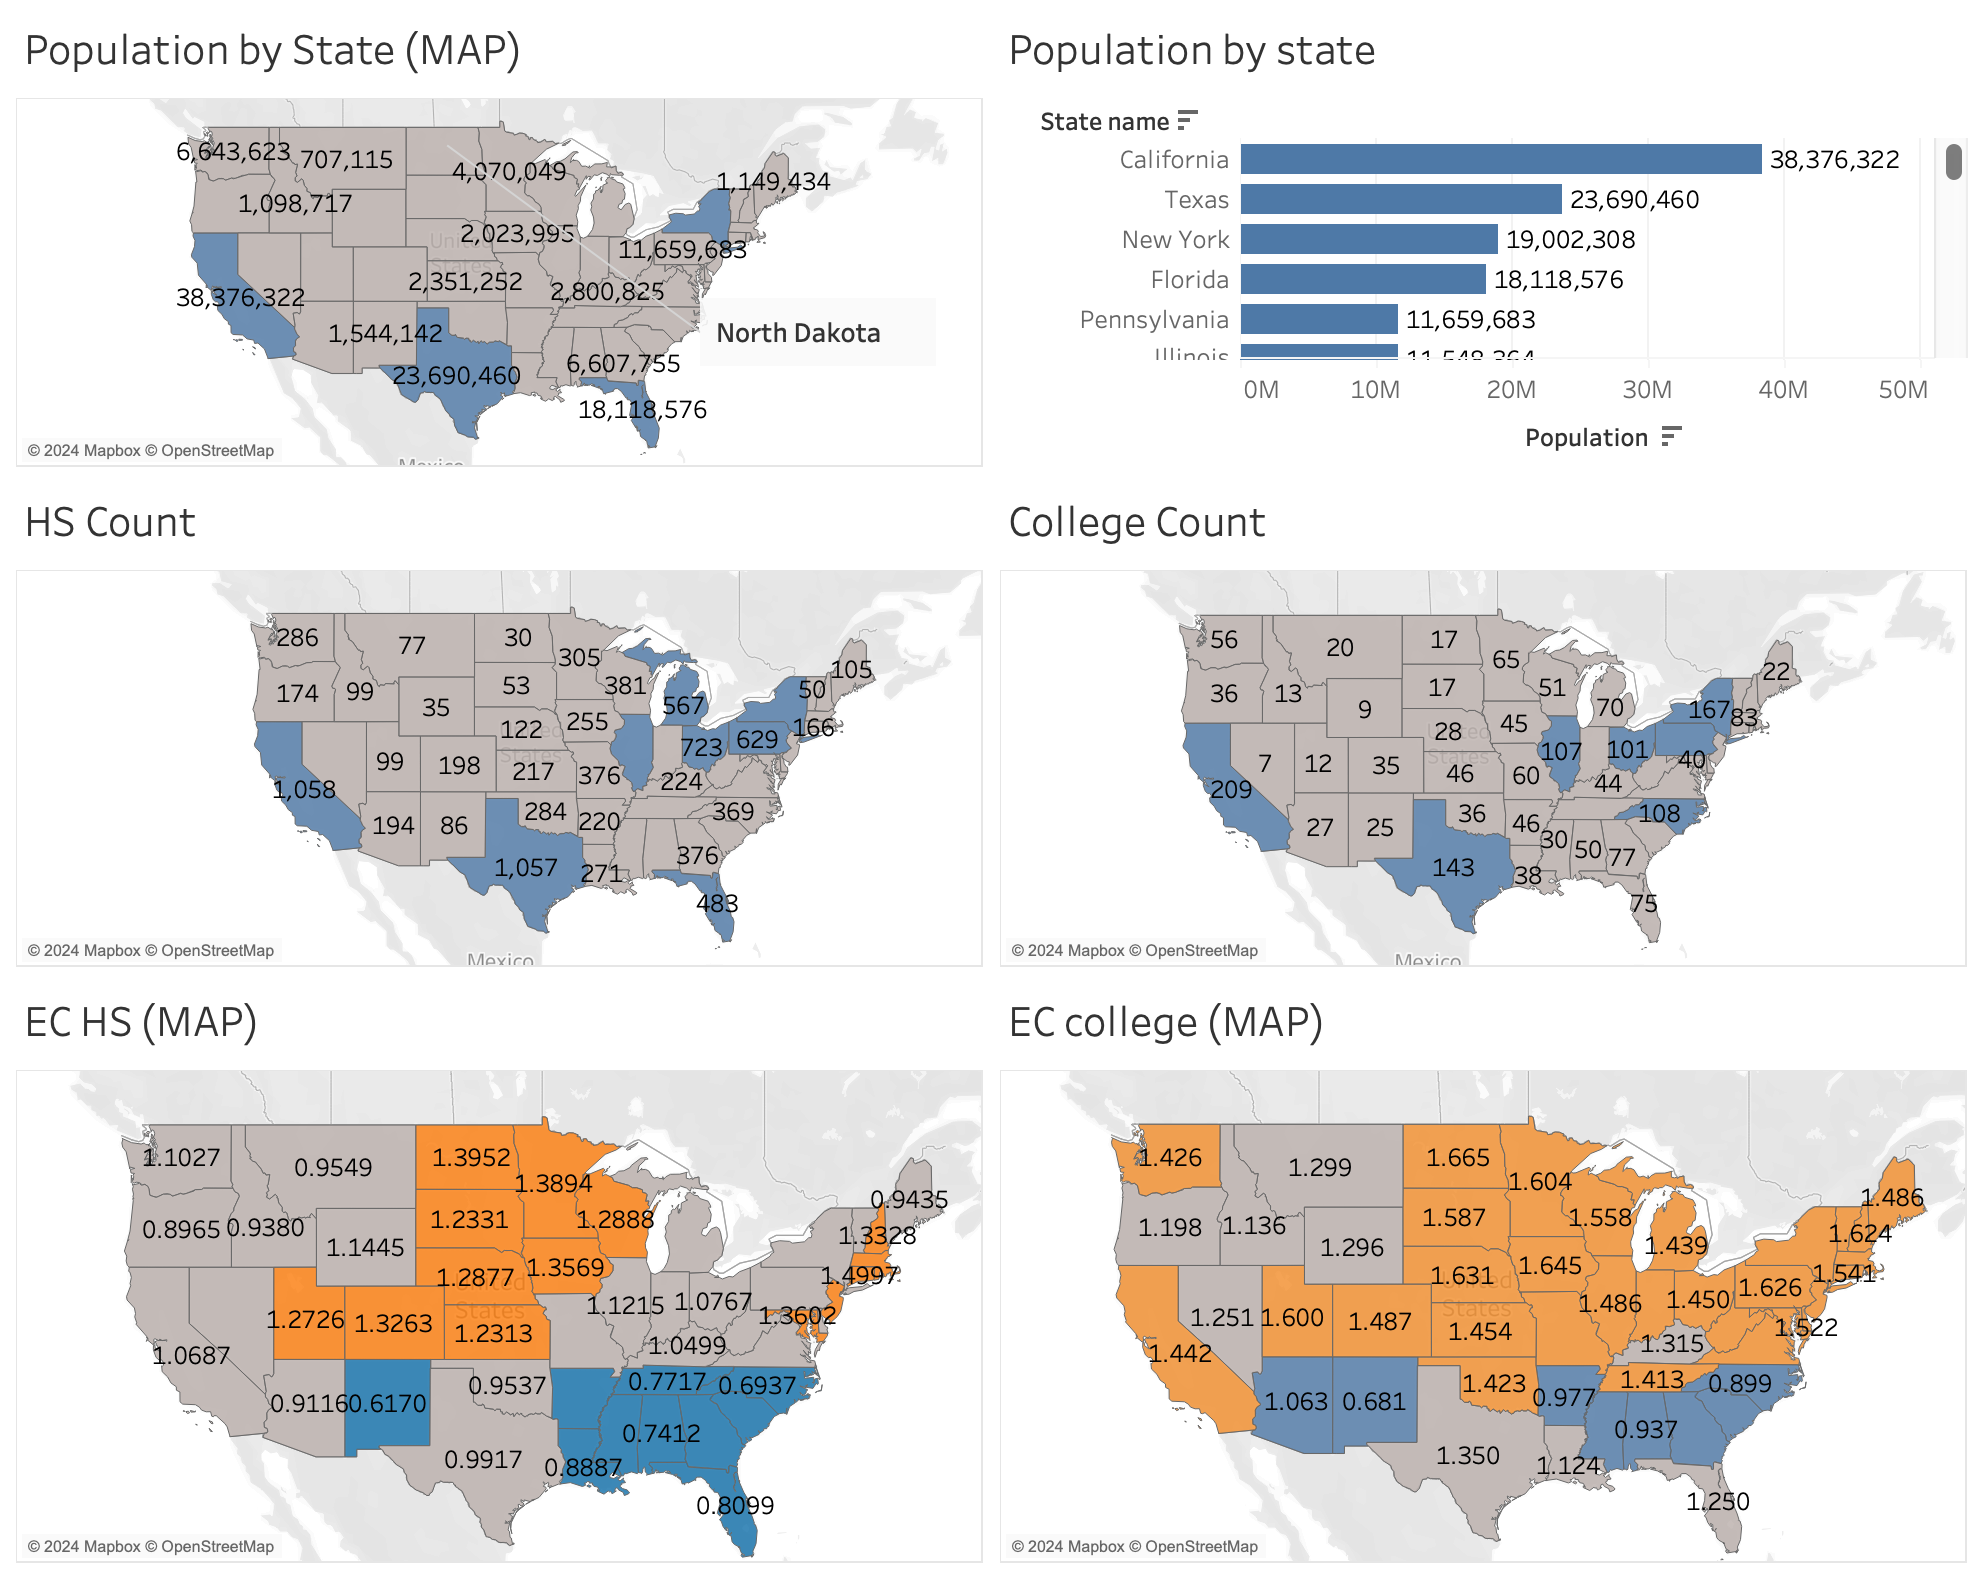

The dashboard page shown, as its layout file describes it:
{"tool":"tableau","page":{"name":"Education","canvas":[1000,800],"ordinal":1},"visuals":[{"type":"worksheet","title":"Population by State (MAP)","mark":"Multipolygon","box":[8,8,492,236]},{"type":"worksheet","title":"Population by state","mark":"Automatic","rows":["Calculation_73957601750016002"],"cols":["pop2018"],"box":[500,8,492,236]},{"type":"worksheet","title":"HS Count","mark":"Multipolygon","box":[8,244,492,250]},{"type":"worksheet","title":"College Count","mark":"Multipolygon","box":[500,244,492,250]},{"type":"worksheet","title":"EC HS (MAP)","mark":"Multipolygon","box":[8,494,492,298]},{"type":"worksheet","title":"EC college (MAP)","mark":"Multipolygon","box":[500,494,492,298]}]}

Visuals, with their boxes in screenshot pixels (x1, y1, x2, y2), scaled from the page's 1000x800 canvas onto the 1976x1582 screenshot:
"Population by State (MAP)" worksheet (Multipolygon marks): bbox=(16, 16, 988, 483)
"Population by state" worksheet: bbox=(988, 16, 1960, 483)
"HS Count" worksheet (Multipolygon marks): bbox=(16, 483, 988, 977)
"College Count" worksheet (Multipolygon marks): bbox=(988, 483, 1960, 977)
"EC HS (MAP)" worksheet (Multipolygon marks): bbox=(16, 977, 988, 1566)
"EC college (MAP)" worksheet (Multipolygon marks): bbox=(988, 977, 1960, 1566)
